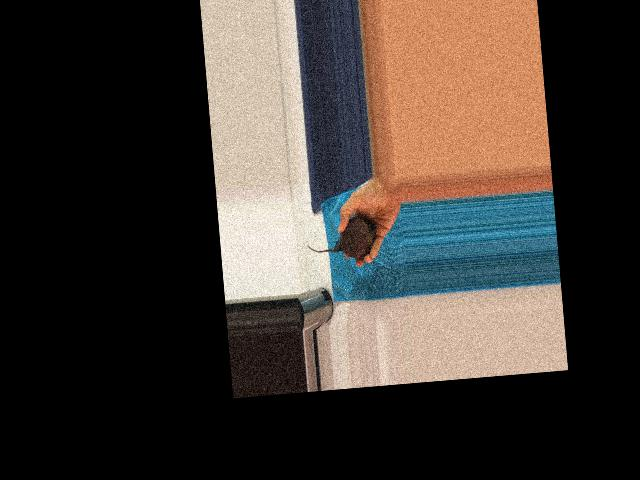beet: (305, 215, 379, 263)
